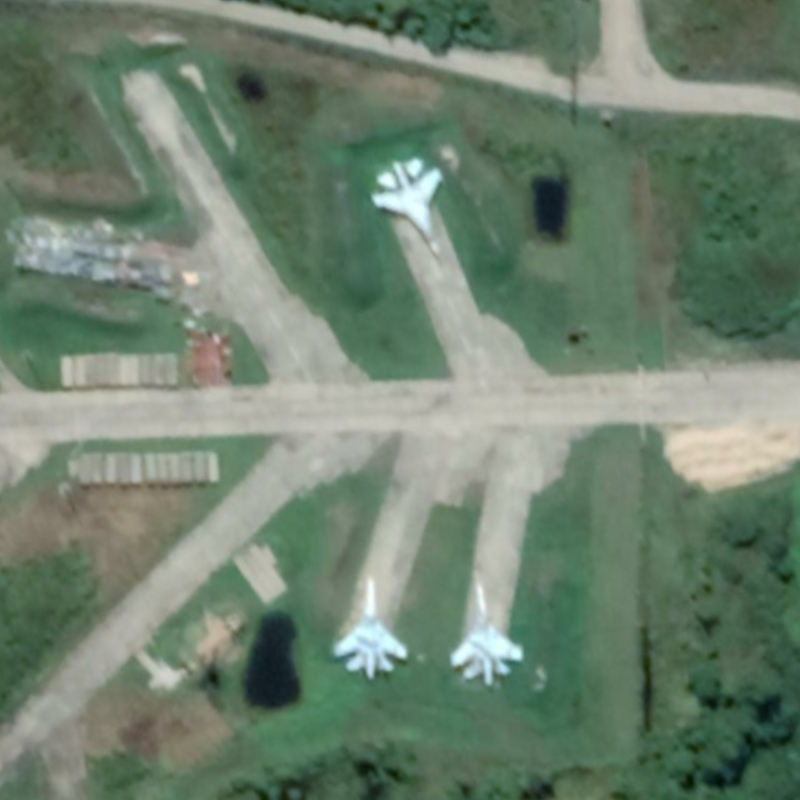A1: (332, 575, 409, 683), (449, 580, 525, 688), (368, 154, 445, 260)
